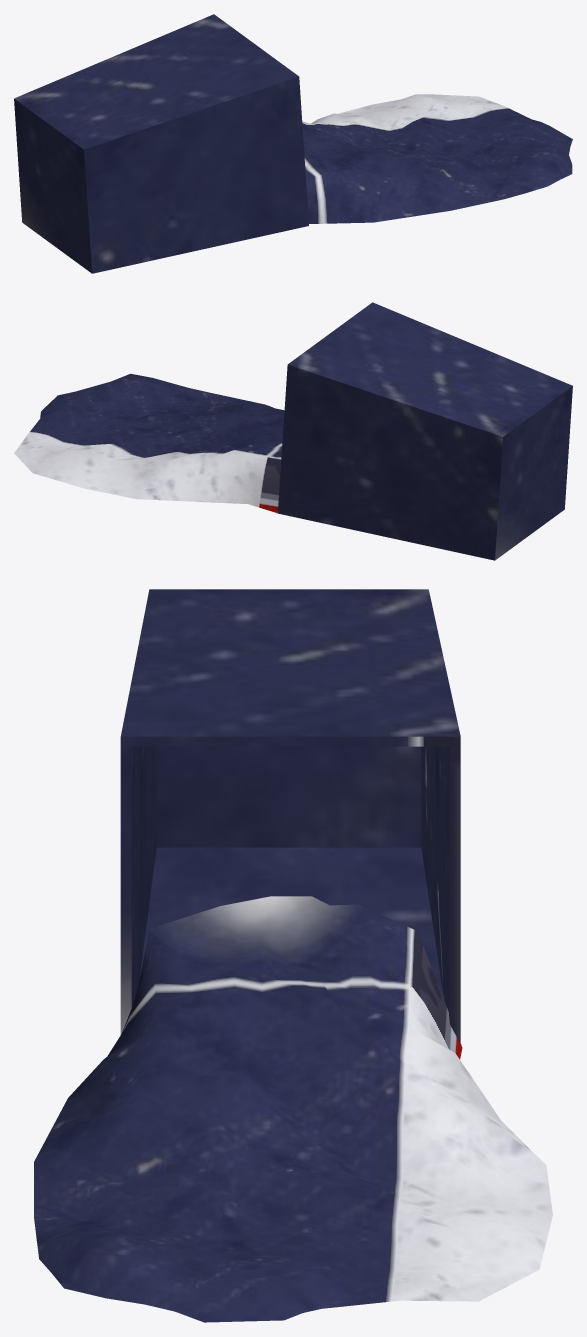
The model's file is PipocaCinema.fbx.
3 renders of one model, top to bottom at view 1: azimuth 30°, elevation 25°; view 2: azimuth 150°, elevation 25°; view 3: azimuth 270°, elevation 25°, orthographic. The views are drawn at different scales.
Parts seen in each view (by area): view 1: PipocaDespejada; view 2: PipocaDespejada; view 3: PipocaDespejada.
Boxes of the visible parts, box(x1,y1,x2,y2) form: PipocaDespejada: box(14, 14, 572, 273); PipocaDespejada: box(14, 302, 572, 560); PipocaDespejada: box(34, 589, 552, 1322).
Bounding box in the file's own units: 219 × 63.93 × 98.03.
